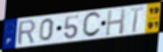0: (39, 18, 55, 43)
5: (64, 14, 81, 40)
C: (81, 11, 103, 39)
H: (104, 8, 127, 37)
R: (17, 19, 37, 47)
T: (130, 6, 145, 34)
